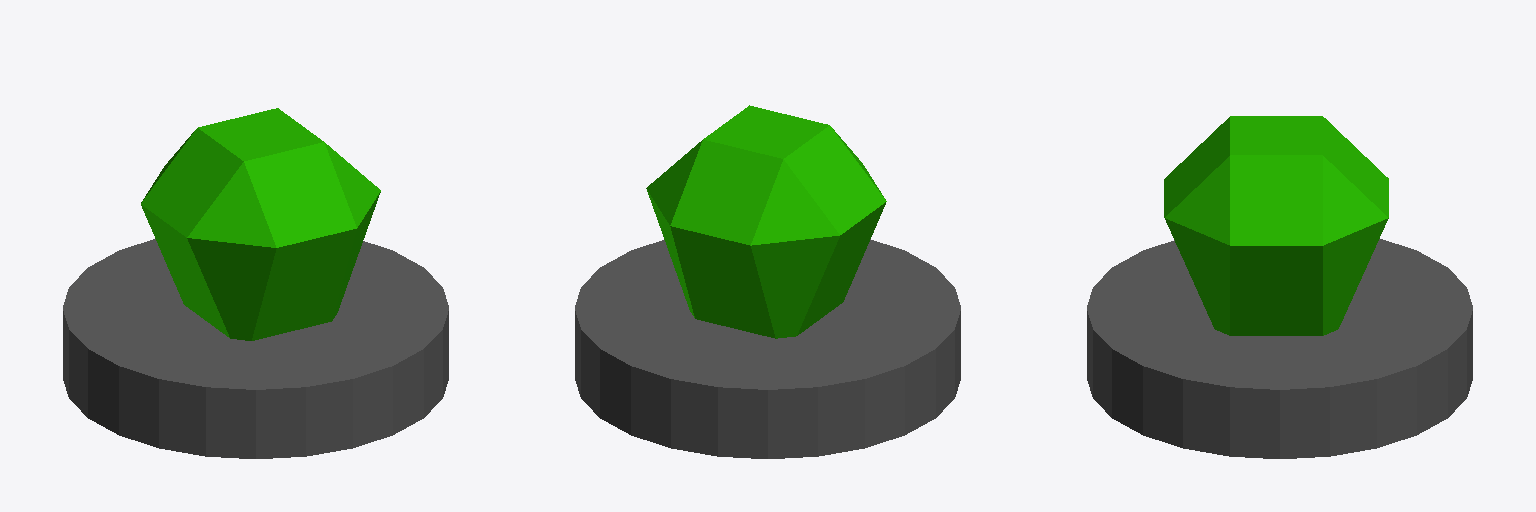
File: gems_emerald_3.obj
3 views of the same model, side by side, from view 1: azimuth 30°, elevation 25°; view 2: azimuth 150°, elevation 25°; view 3: azimuth 270°, elevation 25° (orthographic).
Visible parts, largest first — view 1: mergedBlocks; view 2: mergedBlocks; view 3: mergedBlocks.
Part boxes in pixels (left/top/right/bottom): mergedBlocks: left=63, top=108, right=448, bottom=458; mergedBlocks: left=575, top=105, right=960, bottom=458; mergedBlocks: left=1087, top=116, right=1472, bottom=458.
Bounding box in the file's own units: 1 × 0.694 × 1.